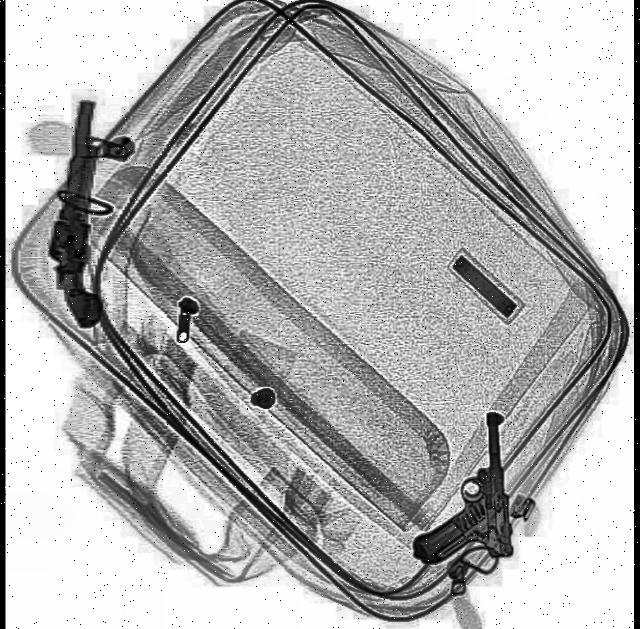Gun: (40, 99, 123, 328), (398, 410, 514, 570)
